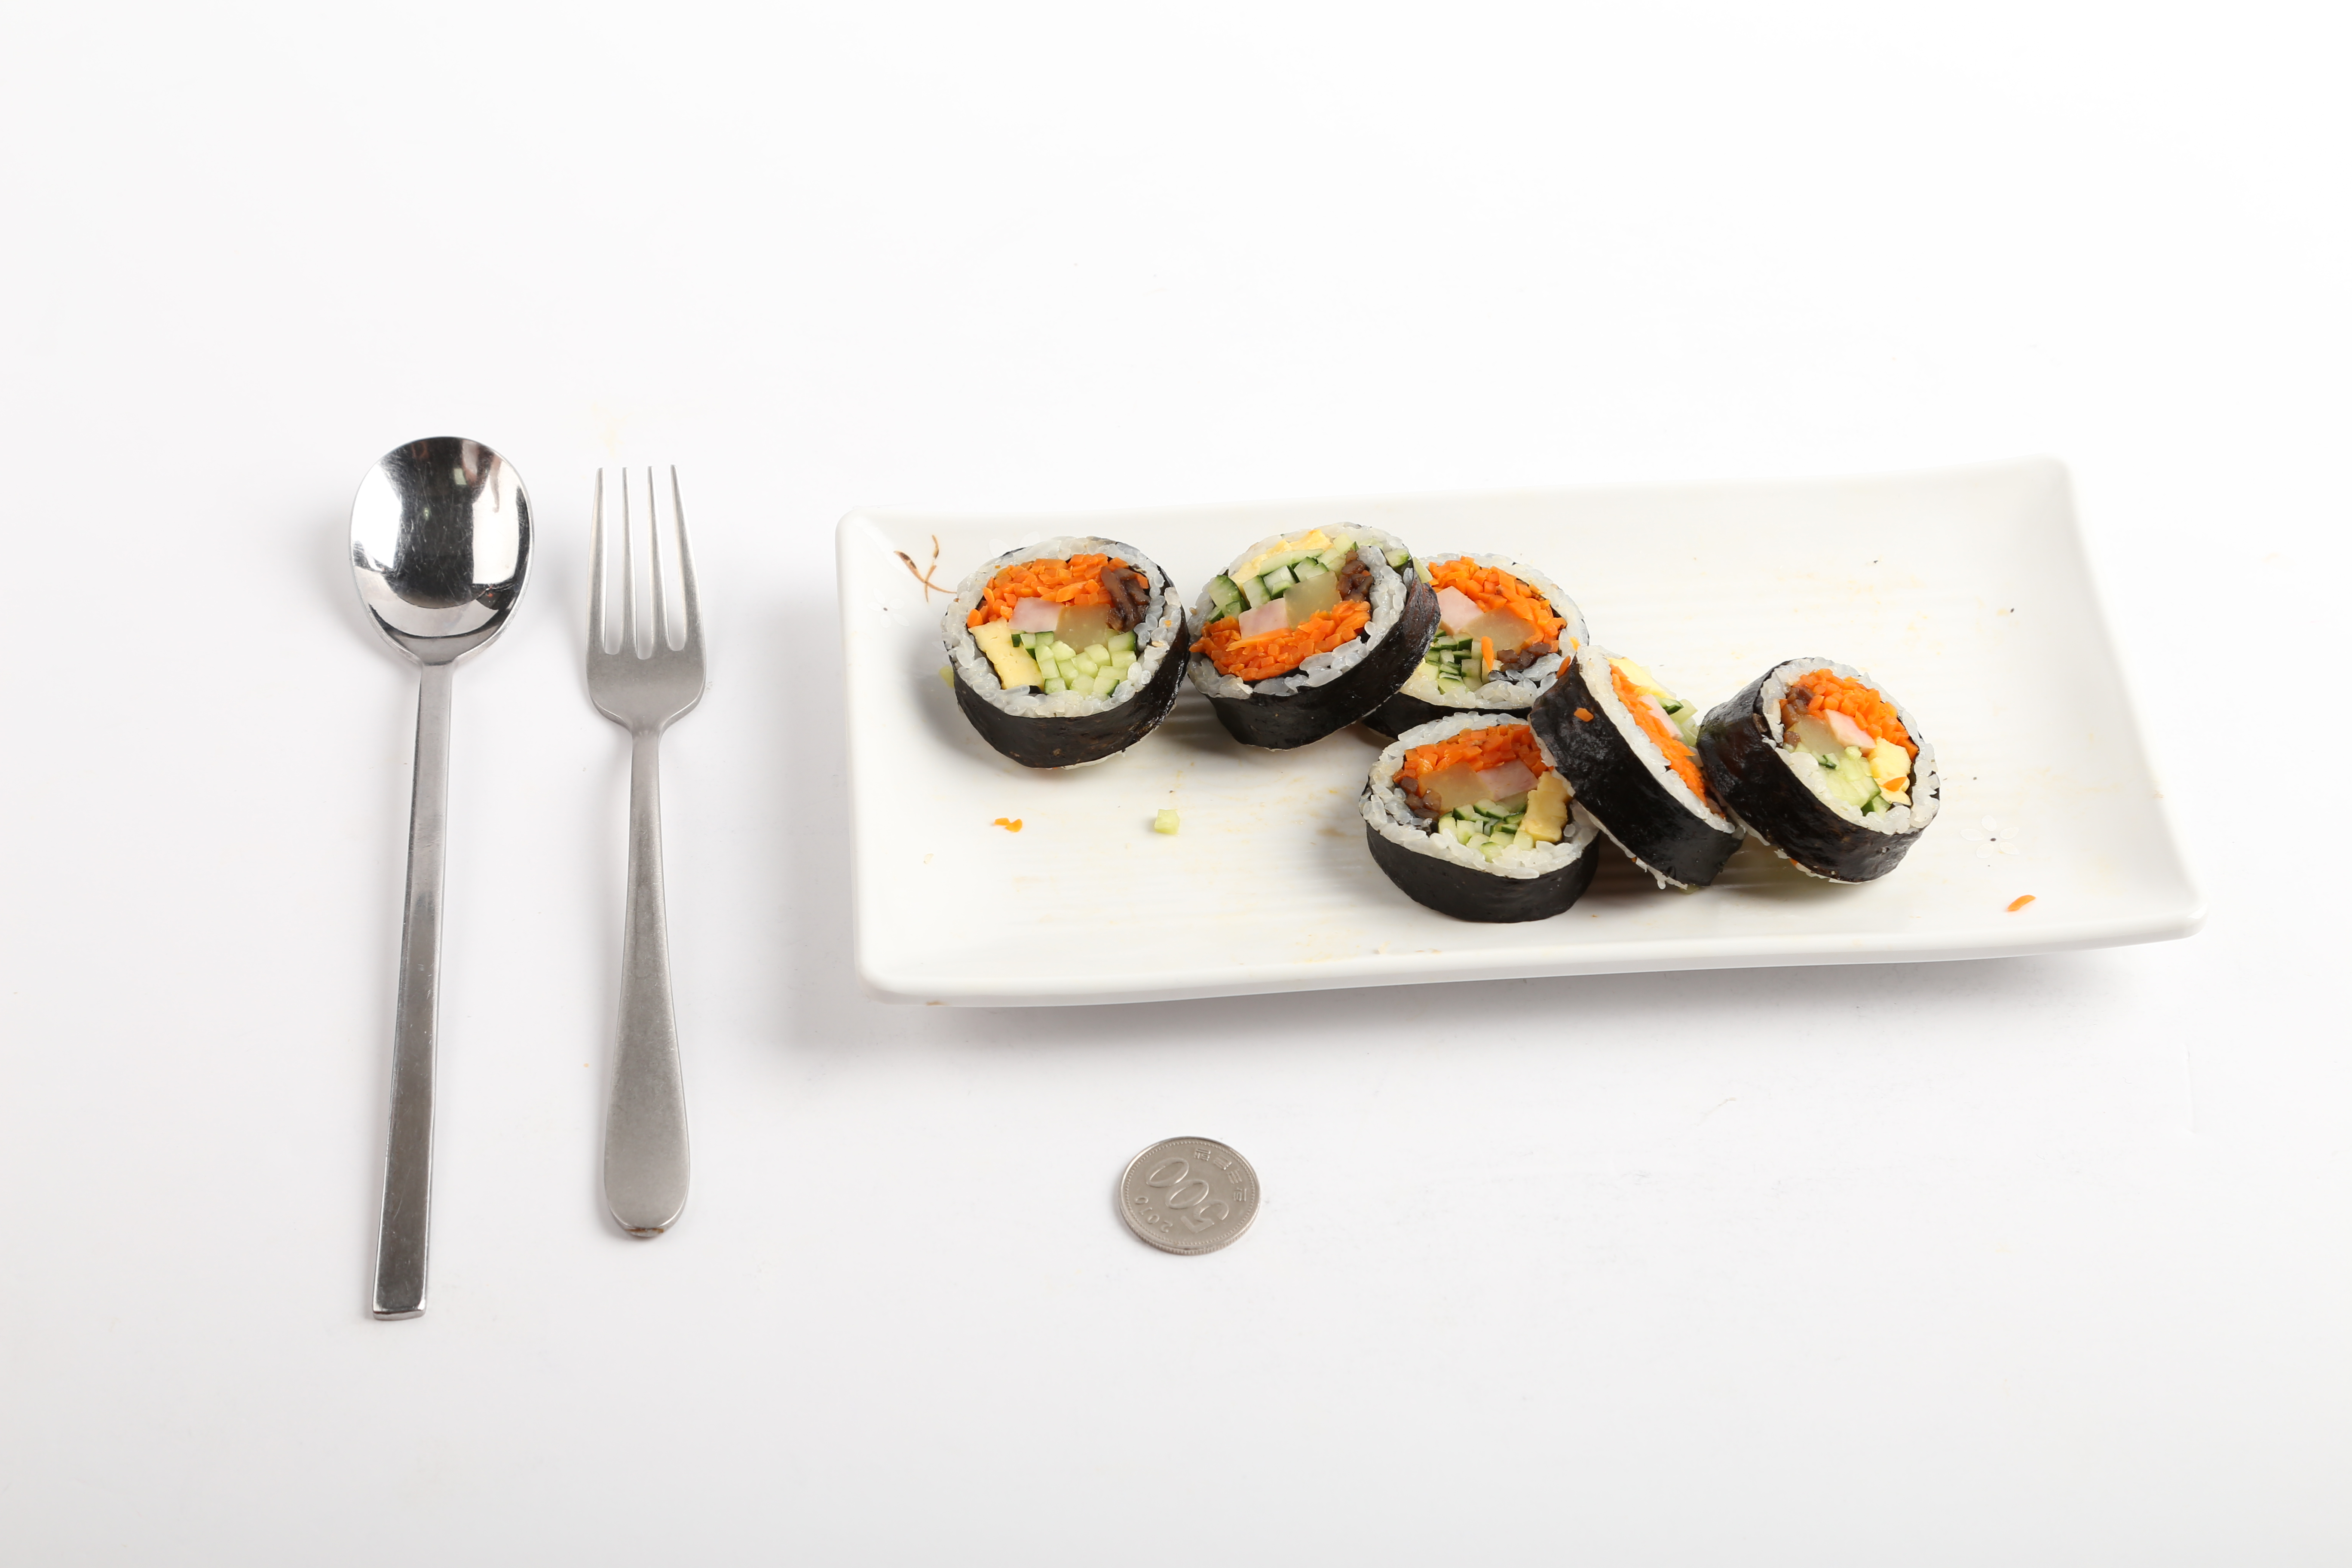dish: (833, 455, 2210, 1015)
ref_coin: (1109, 1125, 1267, 1260)
ref_fork: (579, 462, 714, 815)
ref_spoon: (345, 430, 534, 724)
김밥: (938, 516, 1941, 929)
